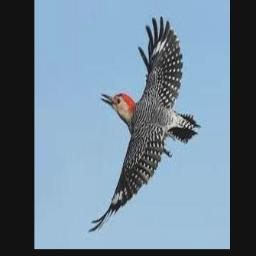Woodpecker: (87, 16, 201, 233)
